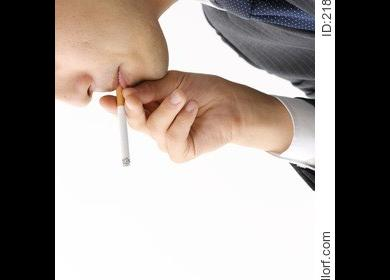Cigarette: (114, 83, 132, 165)
